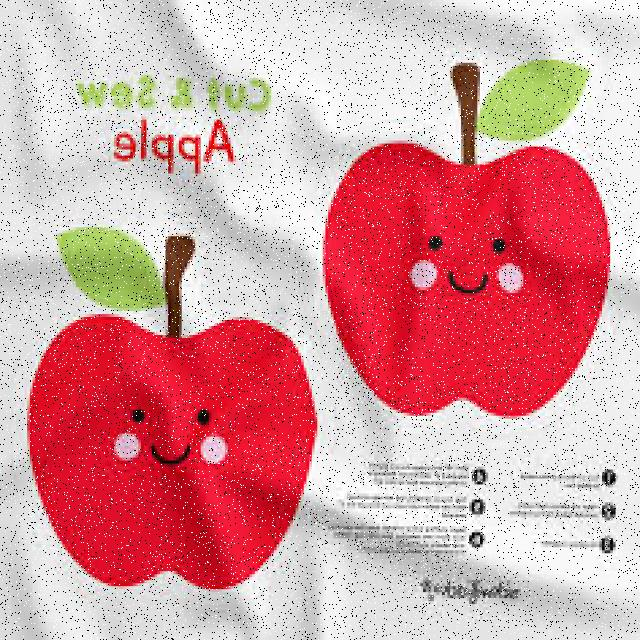Apple: (321, 130, 613, 415), (26, 314, 320, 580)
